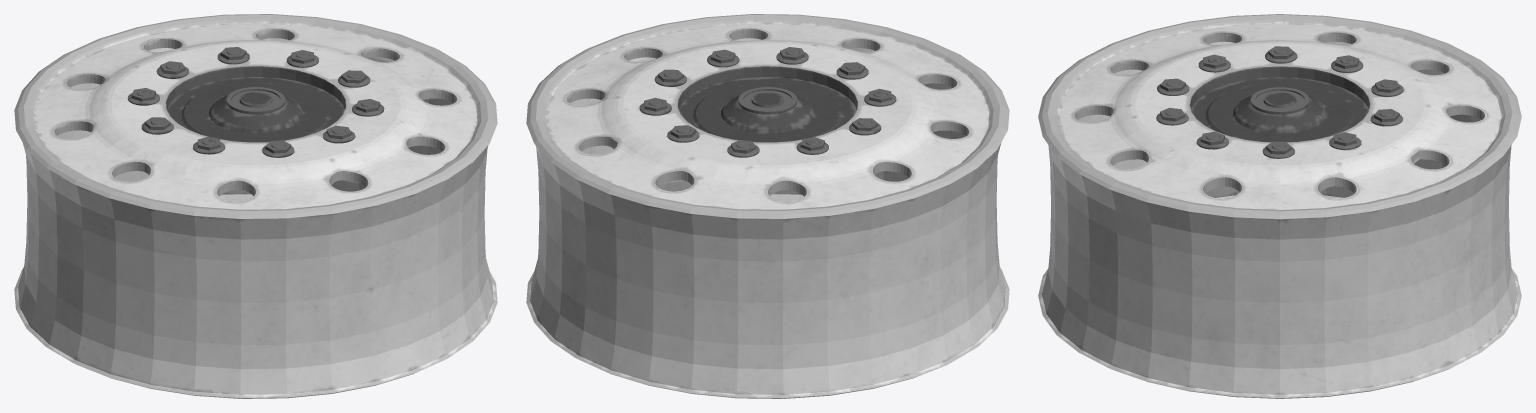
File: CityBusRim.obj
The picture shows the model from 3 angles, left to right: view 1: azimuth 30°, elevation 25°; view 2: azimuth 150°, elevation 25°; view 3: azimuth 270°, elevation 25°; orthographic projection.
Parts seen in each view (by area): view 1: Bus_Wheel_0418; view 2: Bus_Wheel_0418; view 3: Bus_Wheel_0418.
Boxes of the visible parts, x1,y1,x2,y2 form: Bus_Wheel_0418: (14, 14, 497, 398); Bus_Wheel_0418: (526, 14, 1009, 398); Bus_Wheel_0418: (1038, 14, 1521, 398).
Bounding box in the file's own units: 0.6275 × 0.2888 × 0.6275.
Materials: 1 (1 with a texture image).
